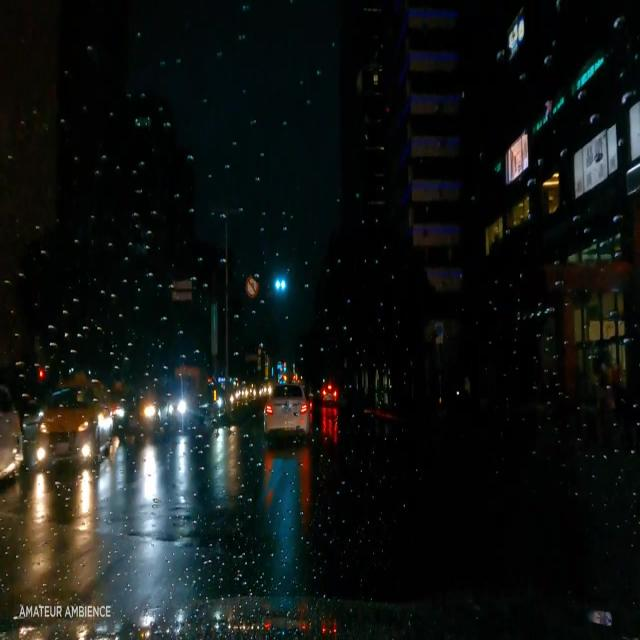Car: (33, 381, 110, 472), (260, 387, 307, 437), (320, 378, 337, 404)
